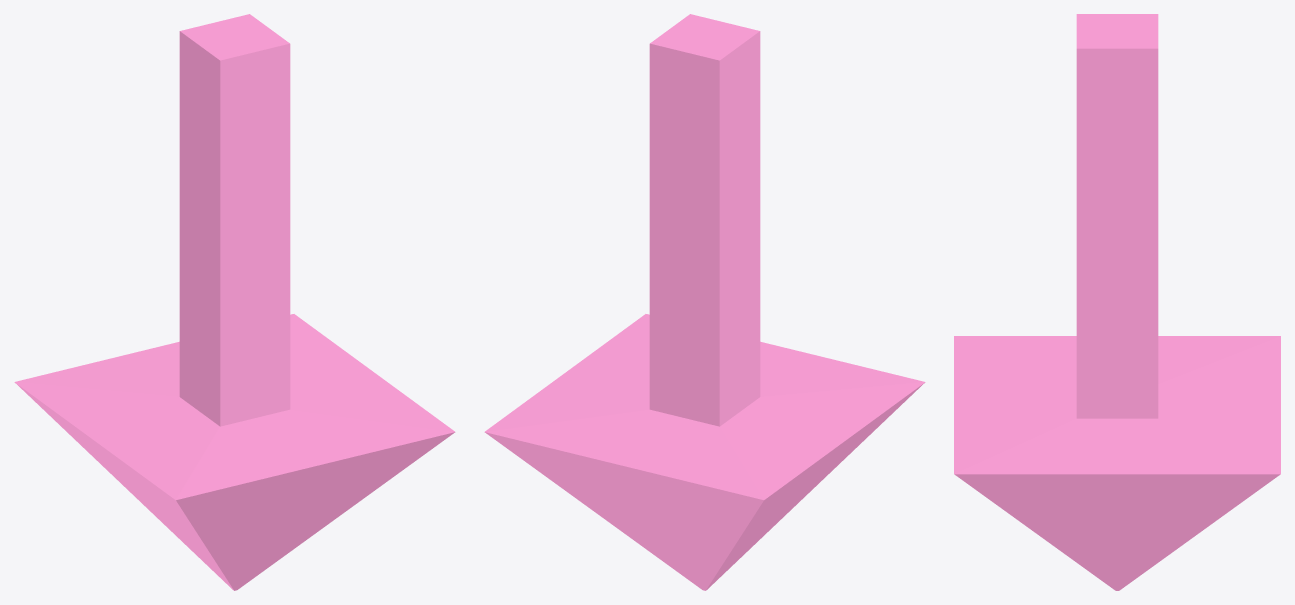
The model's file is pointerArrow.glb.
3 views of the same model, side by side, from view 1: azimuth 30°, elevation 25°; view 2: azimuth 150°, elevation 25°; view 3: azimuth 270°, elevation 25° (orthographic).
Parts seen in each view (by area): view 1: Plane; view 2: Plane; view 3: Plane.
Part boxes in pixels (bbox=[...]): Plane: bbox=[14, 14, 455, 590]; Plane: bbox=[484, 14, 925, 590]; Plane: bbox=[954, 14, 1280, 590].
Bounding box in the file's own units: 0.8 × 1.51 × 0.8.
1 material, 1 textured.
